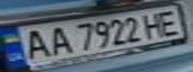2: (121, 14, 145, 43), (109, 16, 130, 46)
7: (72, 20, 96, 52)
9: (90, 18, 112, 50)
A: (18, 27, 54, 61), (42, 24, 75, 56)
E: (154, 7, 184, 36)
H: (139, 10, 169, 39)
